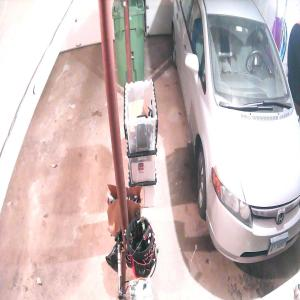garbage bin: (111, 0, 146, 87)
honda civic: (172, 1, 300, 265)
tool bucket: (126, 214, 161, 282)
